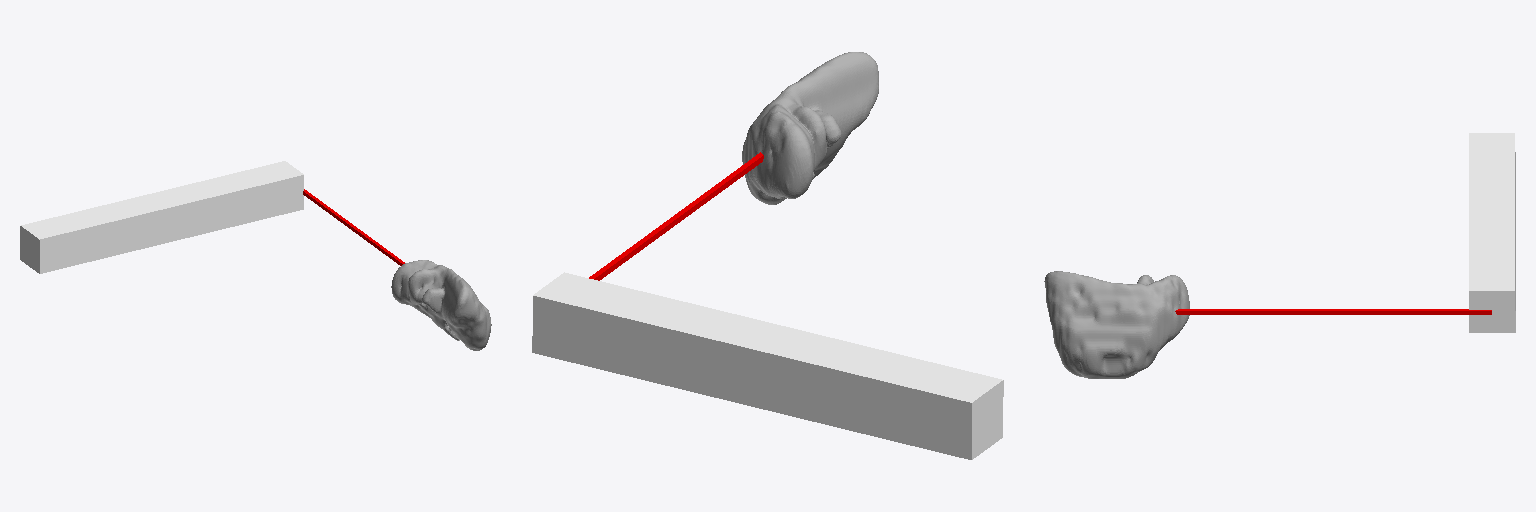
robot.urdf — L_shaped_tool:
<?xml version="1.0" ?>
<robot name="L_shaped_tool">

  <!-- Root link -->
  <link name="moving_link">
    <inertial>
      <mass value="0.276" />
      <origin xyz="0 0 0" rpy="0 0 0"/>
      <inertia ixx="0.0004" ixy="0.0" ixz="0.0" iyy="0.0004" iyz="0.0" izz="0.0004" />
    </inertial>
    <visual>
      <origin rpy="0 0 0" xyz="0 0 0" />
      <geometry><mesh filename="distal1322.obj" scale="1 1 1" /></geometry>
      <material name="grey"><color rgba="0.7 0.7 0.7 1"/></material>
    </visual>
    <collision>
      <origin rpy="0 0 0" xyz="0 0 0" />
      <geometry><mesh filename="distal_132_vhacd.obj" scale="1 1 1" /></geometry>
    </collision>
  </link>

  <joint name="ankle_mount_joint" type="fixed">
    <parent link="moving_link"/>
    <child link="pin_link"/>
    <origin xyz="0 0.08 0.002" rpy="-1.57 0 0"/>
  </joint>

  <link name="pin_link">
    <inertial>
      <origin xyz="0 0 -0.04" rpy="0 0 0"/>
      <mass value="0.01"/> <inertia ixx="0.0001" ixy="0" ixz="0" iyy="0.0001" iyz="0" izz="0.0001"/>
    </inertial>
    <visual>
      <origin xyz="0 0 -0.04" rpy="0 0 0"/>
      <geometry><box size="0.001 0.001 0.08"/></geometry>
      <material name="red"><color rgba="1 0 0 1"/></material>
    </visual>
    <collision>
      <origin xyz="0 0 -0.04" rpy="0 0 0"/>
      <geometry><box size="0.001 0.001 0.08"/></geometry>
    </collision>
  </link>

  <joint name="load_cell_joint" type="fixed">
    <parent link="pin_link"/>
    <child link="base_link"/>
    <origin xyz="0 0 0" rpy="0 0 0"/>
  </joint>

  <link name="base_link">
    <inertial>
      <origin xyz="-0.04 0 0" rpy="0 0 1.57"/>
      <mass value="0.01"/> <inertia ixx="0.0001" ixy="0" ixz="0" iyy="0.0001" iyz="0" izz="0.0001"/>
    </inertial>
    <visual>
      <origin xyz="-0.04 -0.0 0" rpy="0 0 1.57"/>
      <geometry><box size="0.01 0.08 0.01"/></geometry>
      <material name="white"><color rgba="1 1 1 1"/></material>
    </visual>
    <collision>
      <origin xyz="-0.04 0 0" rpy="0 0 1.57"/>
      <geometry><box size="0.01 0.08 0.01"/></geometry>
    </collision>
  </link>

</robot>

--- Facts derived from the render (not from the file) ---
3 views of the same robot in one strip: view 1: azimuth 30°, elevation 25°; view 2: azimuth 150°, elevation 25°; view 3: azimuth 270°, elevation 25° (orthographic).
Model L_shaped_tool with 3 links and 2 joints (2 fixed), rooted at moving_link, posed all joints at 0.
Links seen in each view (by area): view 1: base_link, moving_link, pin_link; view 2: base_link, moving_link, pin_link; view 3: moving_link, base_link, pin_link.
Link boxes in pixels (box(x1,y1,x2,y2)): base_link: box(20, 161, 303, 273); moving_link: box(391, 260, 491, 350); pin_link: box(303, 189, 404, 265); base_link: box(532, 272, 1003, 459); moving_link: box(742, 52, 878, 204); pin_link: box(589, 152, 763, 280); moving_link: box(1044, 271, 1189, 378); base_link: box(1469, 133, 1515, 332); pin_link: box(1175, 309, 1491, 314).
Size in the robot's own frame: 0.089 by 0.1007 by 0.0219 metres.
1 mesh visuals loaded from 1 distinct referenced files (1 OBJ).
